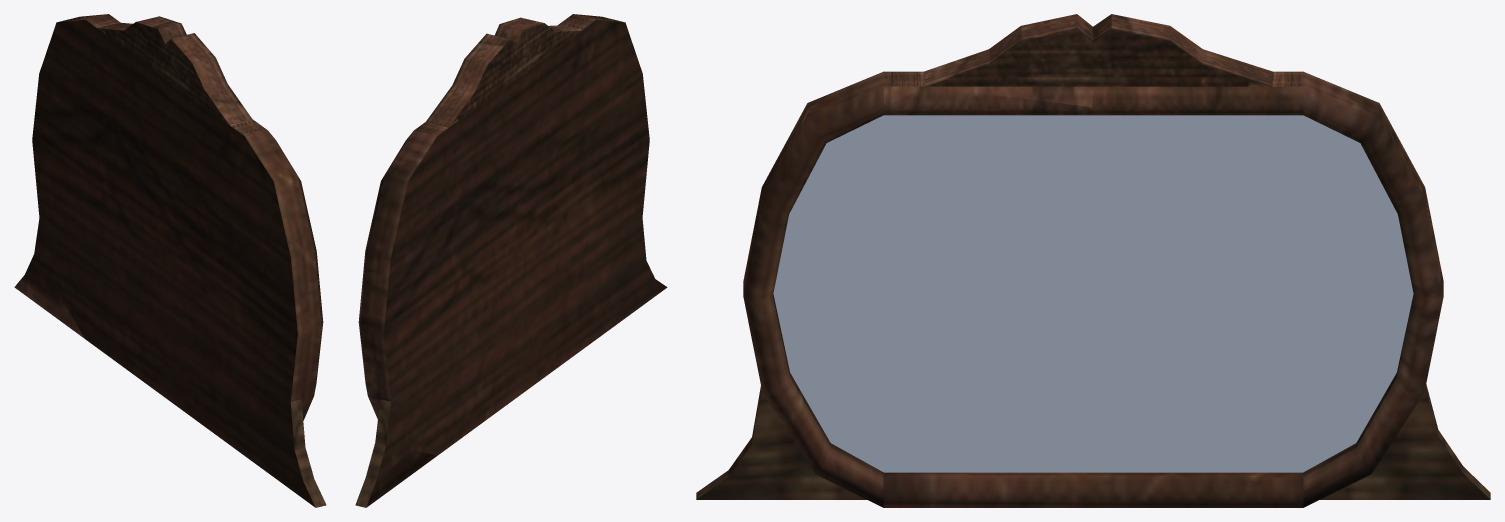
The model's file is M_Home_Garden_Mirror_01.fbx.
3 views of the same model, side by side, from view 1: azimuth 30°, elevation 25°; view 2: azimuth 150°, elevation 25°; view 3: azimuth 270°, elevation 25° (orthographic). The views are drawn at different scales.
Parts seen in each view (by area): view 1: M_Home_Garden_Mirror_01; view 2: M_Home_Garden_Mirror_01; view 3: M_Home_Garden_Mirror_01.
Part boxes in pixels (left/top/right/bottom): M_Home_Garden_Mirror_01: left=14, top=14, right=326, bottom=507; M_Home_Garden_Mirror_01: left=355, top=14, right=667, bottom=507; M_Home_Garden_Mirror_01: left=696, top=14, right=1490, bottom=507.
Bounding box in the file's own units: 5.46 × 60.26 × 90.62.
